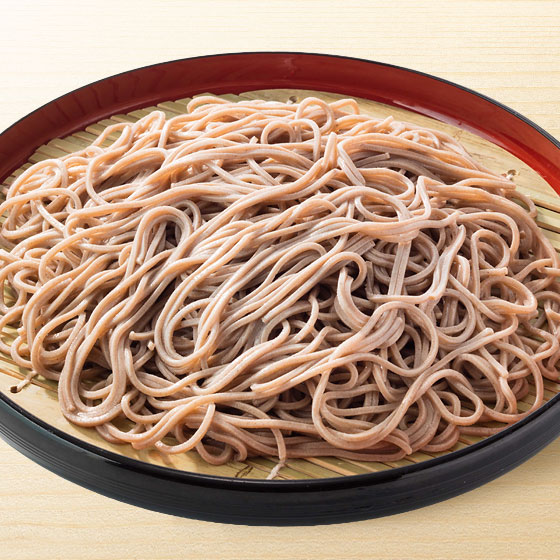Soba: (3, 98, 560, 461)
